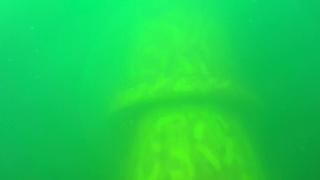pipe: (108, 1, 266, 179)
